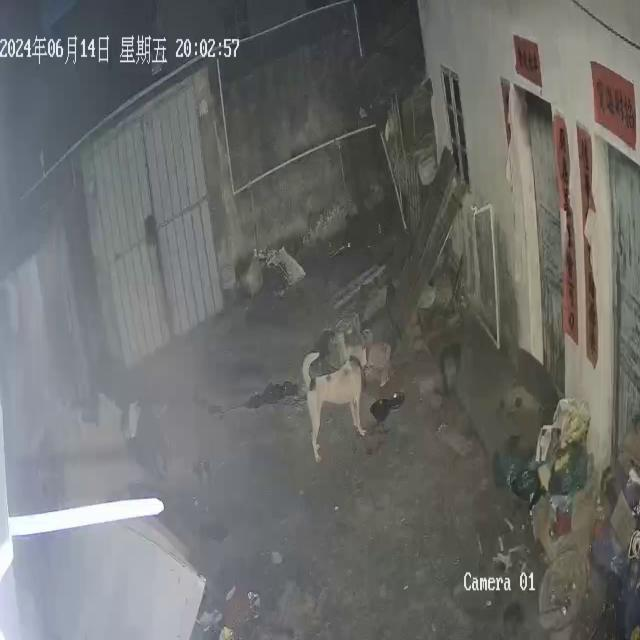dog: (302, 350, 368, 465)
